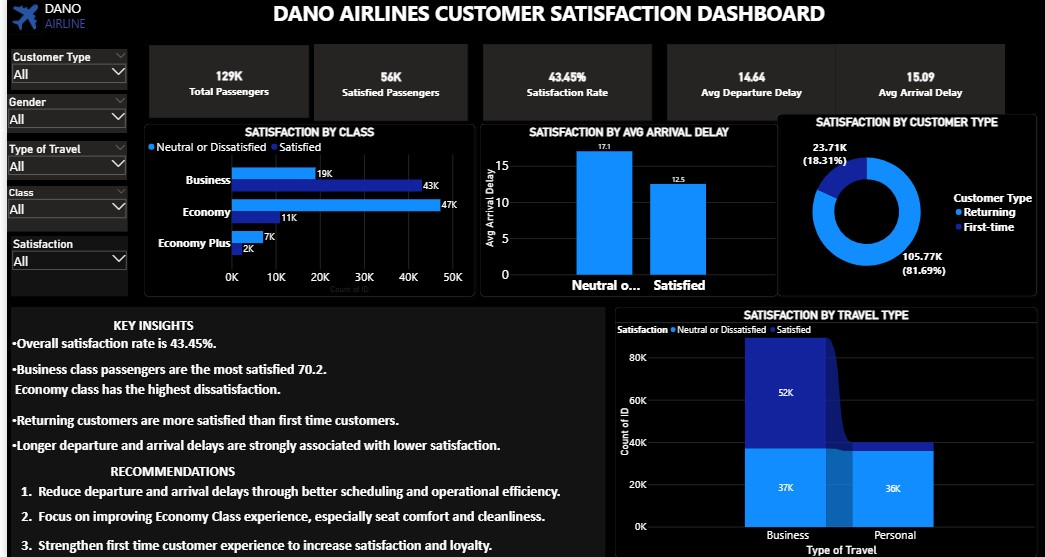

The page's visual inventory and layout, read from the dashboard file:
{"tool":"powerbi","page":{"name":"Page 1","canvas":[6500,3500],"ordinal":0},"visuals":[{"type":"card","fields":{"Values":["airline_passenger_satisfaction.Total Passenger"]},"box":[853.8,261.5,1000,461.5],"z":0},{"type":"card","fields":{"Values":["airline_passenger_satisfaction.Satisfied Passengers"]},"box":[1923.1,253.8,1000,469.2],"z":1000},{"type":"card","fields":{"Values":["airline_passenger_satisfaction.Satisfaction Rate"]},"box":[3000,223.1,1000,500],"z":2000},{"type":"card","fields":{"Values":["airline_passenger_satisfaction.Avg Departure Delay"]},"box":[4123.1,238.5,1030.8,484.6],"z":3000},{"type":"card","fields":{"Values":["airline_passenger_satisfaction.Avg Arrival Delay"]},"box":[5207.7,269.2,992.3,453.8],"z":4000},{"type":"clusteredBarChart","title":"SATISFACTION BY CLASS","fields":{"Category":["airline_passenger_satisfaction.Class"],"Y":["CountNonNull(airline_passenger_satisfaction.ID)"],"Series":["airline_passenger_satisfaction.Satisfaction"]},"box":[853.8,784.6,2069.2,1076.9],"z":5000},{"type":"donutChart","title":"SATISFACTION BY CUSTOMER TYPE","fields":{"Category":["airline_passenger_satisfaction.Customer Type"],"Y":["CountNonNull(airline_passenger_satisfaction.ID)"]},"box":[4800,768,1632,1152],"z":6000},{"type":"columnChart","title":"SATISFACTION BY TRAVEL TYPE","fields":{"Category":["airline_passenger_satisfaction.Type of Travel"],"Series":["airline_passenger_satisfaction.Satisfaction"],"Y":["CountNonNull(airline_passenger_satisfaction.ID)"]},"box":[3800,1930.8,2638.5,1569.2],"z":7000},{"type":"clusteredColumnChart","title":"SATISFACTION BY AVG ARRIVAL DELAY","fields":{"Category":["airline_passenger_satisfaction.Satisfaction"],"Y":["airline_passenger_satisfaction.Avg Arrival Delay"]},"box":[2953.8,784.6,1861.5,1076.9],"z":8000},{"type":"slicer","fields":{"Values":["airline_passenger_satisfaction.Gender"]},"box":[0,600,750,244.4],"z":9000},{"type":"slicer","fields":{"Values":["airline_passenger_satisfaction.Class"]},"box":[0,1176.9,753.8,284.6],"z":10000},{"type":"slicer","fields":{"Values":["airline_passenger_satisfaction.Type of Travel"]},"box":[0,894.4,750,244.4],"z":11000},{"type":"slicer","fields":{"Values":["airline_passenger_satisfaction.Customer Type"]},"box":[22.2,316.7,727.8,255.6],"z":12000},{"type":"textbox","box":[853.3,0,5060,220],"z":13000},{"type":"image","box":[0,11.1,227.8,216.7],"z":14000},{"type":"textbox","box":[230,0,300,270],"z":15000},{"type":"textbox","box":[23.1,1930.8,3715.4,1569.2],"z":21000},{"type":"slicer","fields":{"Values":["airline_passenger_satisfaction.Satisfaction"]},"box":[23.1,1484.6,730.8,376.9],"z":22000}]}

Visuals, with their boxes in screenshot pixels (x1, y1, x2, y2), scaled from the page's 6500x3500 canvas onto the 1045x557 screenshot:
card - airline_passenger_satisfaction.Total Passenger: (x1=137, y1=42, x2=298, y2=115)
card - airline_passenger_satisfaction.Satisfied Passengers: (x1=309, y1=40, x2=470, y2=115)
card - airline_passenger_satisfaction.Satisfaction Rate: (x1=482, y1=36, x2=643, y2=115)
card - airline_passenger_satisfaction.Avg Departure Delay: (x1=663, y1=38, x2=829, y2=115)
card - airline_passenger_satisfaction.Avg Arrival Delay: (x1=837, y1=43, x2=997, y2=115)
"SATISFACTION BY CLASS" clusteredBarChart: (x1=137, y1=125, x2=470, y2=296)
"SATISFACTION BY CUSTOMER TYPE" donutChart: (x1=772, y1=122, x2=1034, y2=306)
"SATISFACTION BY TRAVEL TYPE" columnChart: (x1=611, y1=307, x2=1035, y2=556)
"SATISFACTION BY AVG ARRIVAL DELAY" clusteredColumnChart: (x1=475, y1=125, x2=774, y2=296)
slicer - airline_passenger_satisfaction.Gender: (x1=0, y1=95, x2=121, y2=134)
slicer - airline_passenger_satisfaction.Class: (x1=0, y1=187, x2=121, y2=233)
slicer - airline_passenger_satisfaction.Type of Travel: (x1=0, y1=142, x2=121, y2=181)
slicer - airline_passenger_satisfaction.Customer Type: (x1=4, y1=50, x2=121, y2=91)
textbox: (x1=137, y1=0, x2=951, y2=35)
image: (x1=0, y1=2, x2=37, y2=36)
textbox: (x1=37, y1=0, x2=85, y2=43)
textbox: (x1=4, y1=307, x2=601, y2=556)
slicer - airline_passenger_satisfaction.Satisfaction: (x1=4, y1=236, x2=121, y2=296)
